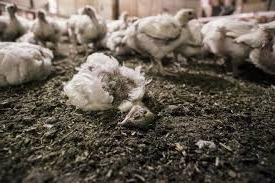AbNormal: (63, 48, 158, 127)
